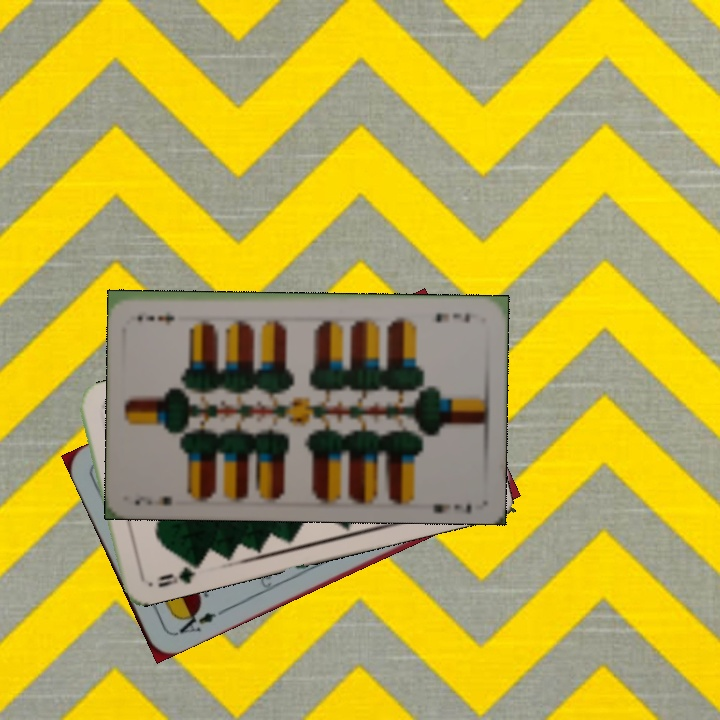E7: (431, 308, 474, 325), (130, 492, 175, 508)
EA: (170, 604, 226, 638)
G9: (152, 558, 203, 590)
